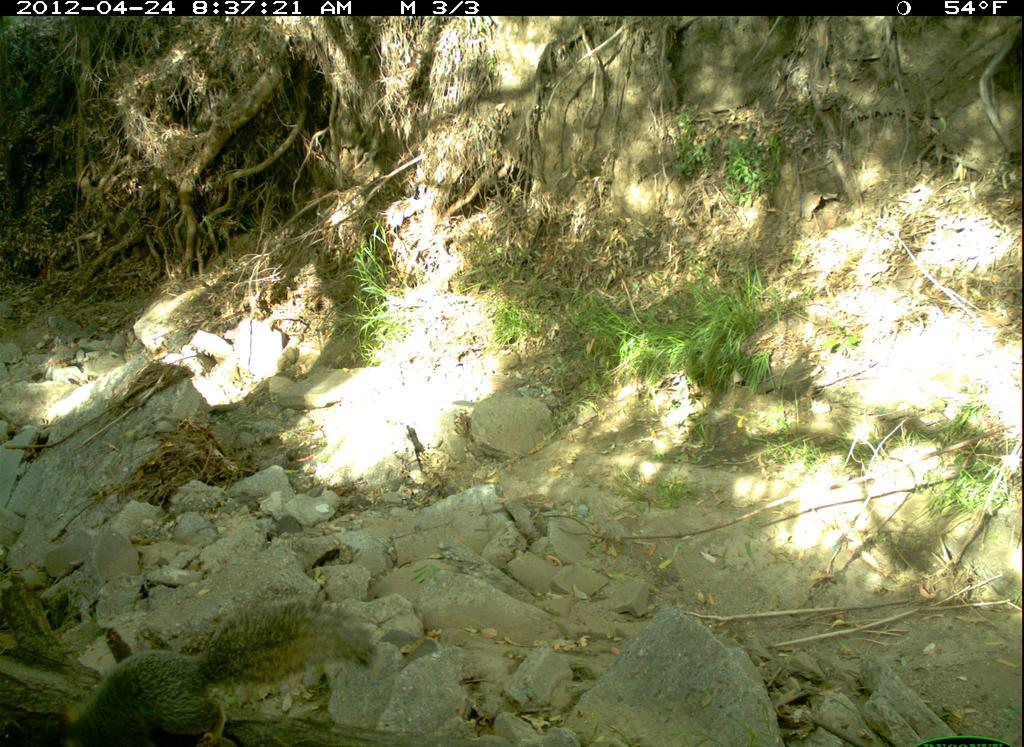squirrel: (39, 595, 382, 747)
